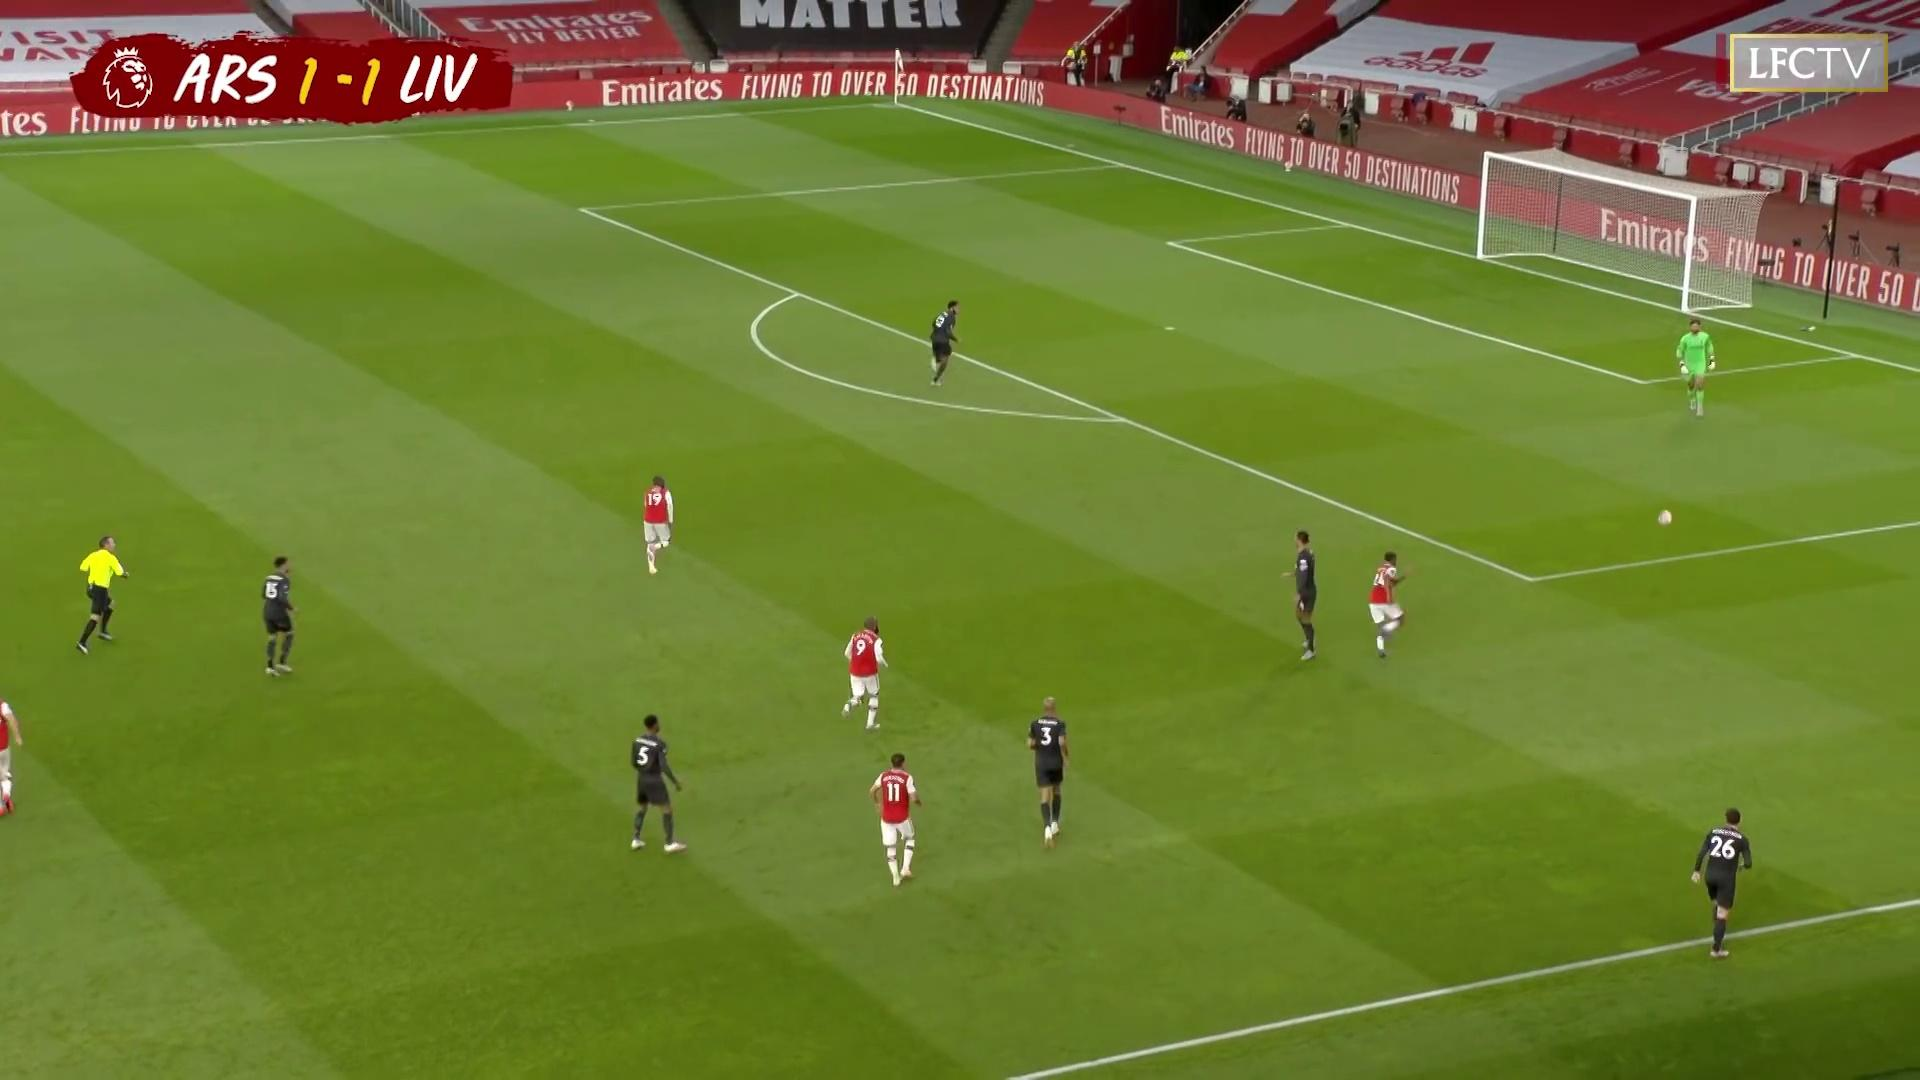ball: (1658, 507, 1675, 528)
